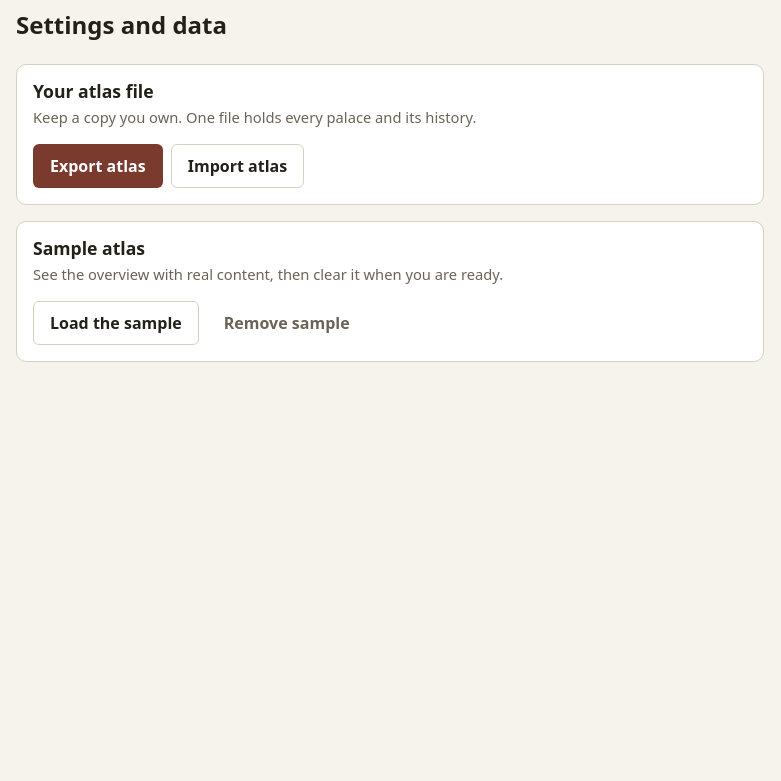
Test: Settings sample › loads and removes the sample in one action each
The width and height of the screenshot is (781, 781).
Click the button "Load the sample" at (116, 323), box [33,301,199,345]
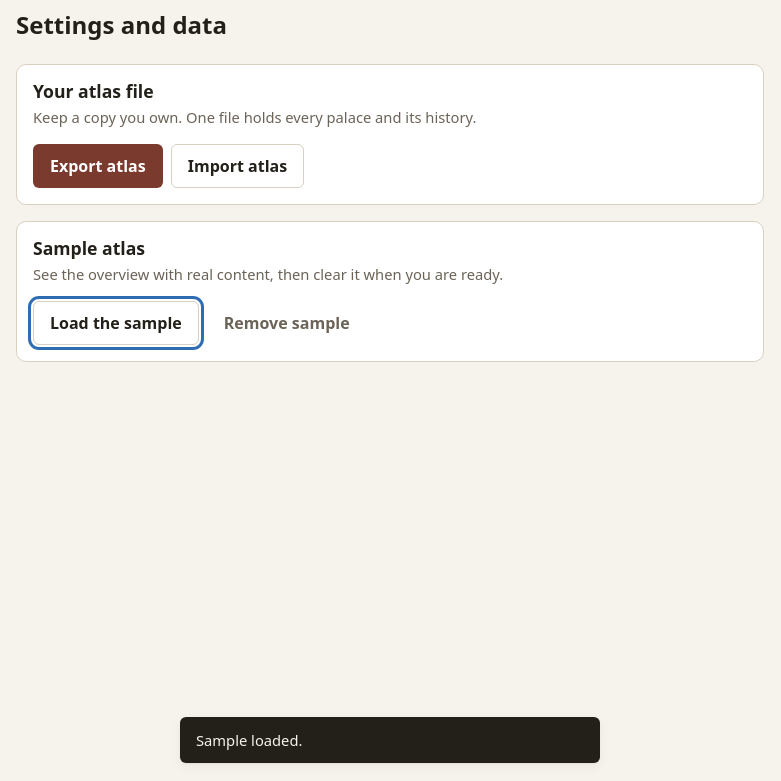
Check: the text "Sample loaded." is shown, box [180,717,600,763]
Click the button "Remove sample" at (287, 323), box [207,301,367,345]
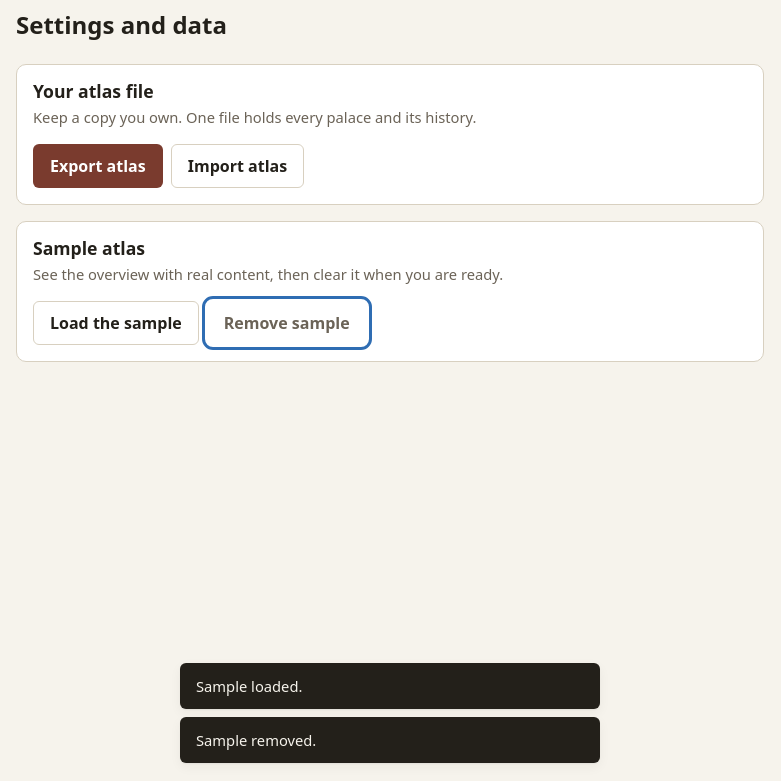
Check: the text "Sample removed." is shown, box [180,717,600,763]
